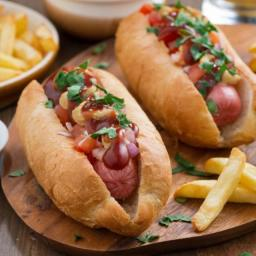hotdog: (9, 54, 167, 254), (112, 0, 256, 141)
